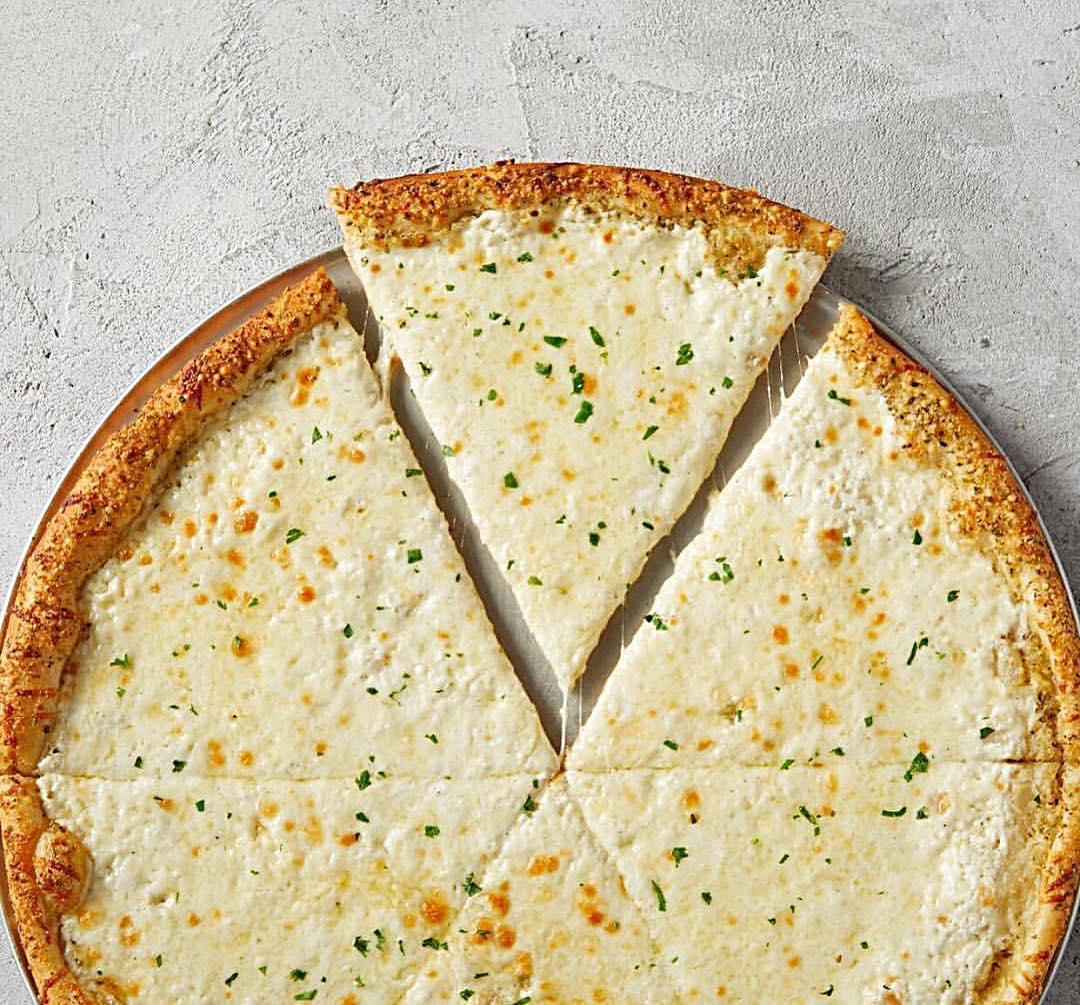Cheese: (107, 791, 481, 988), (773, 429, 969, 732), (459, 244, 705, 460), (174, 442, 422, 629), (114, 656, 481, 764), (747, 797, 958, 977), (502, 837, 639, 1003), (511, 467, 633, 580), (657, 627, 761, 734), (651, 786, 728, 918)
Pizza: (0, 173, 1080, 1005)
